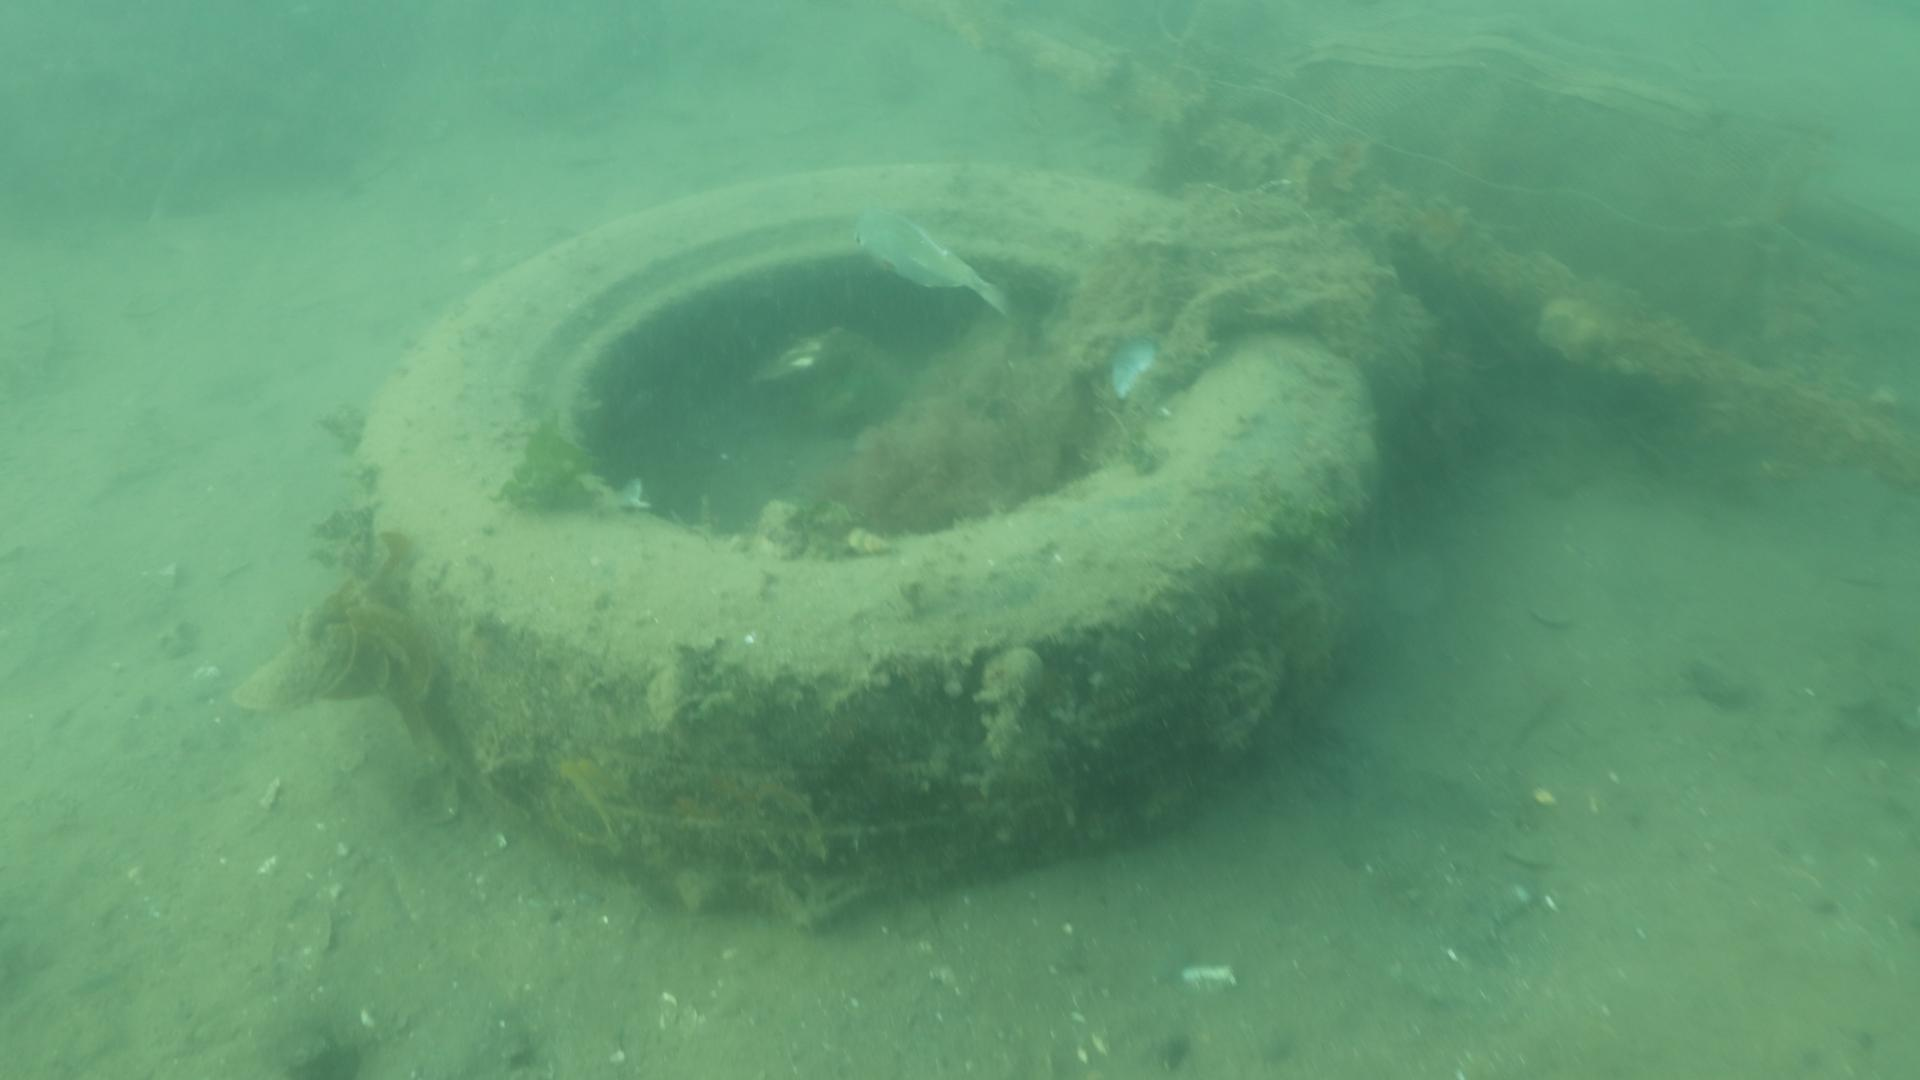spring fish trap: (1166, 0, 1815, 415)
tire: (349, 161, 1379, 909)
